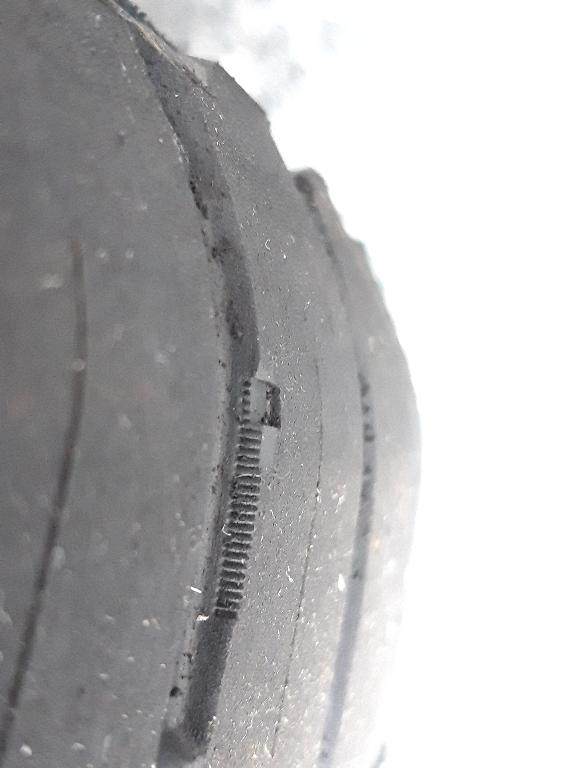temoin:25: (226, 361, 294, 488)
